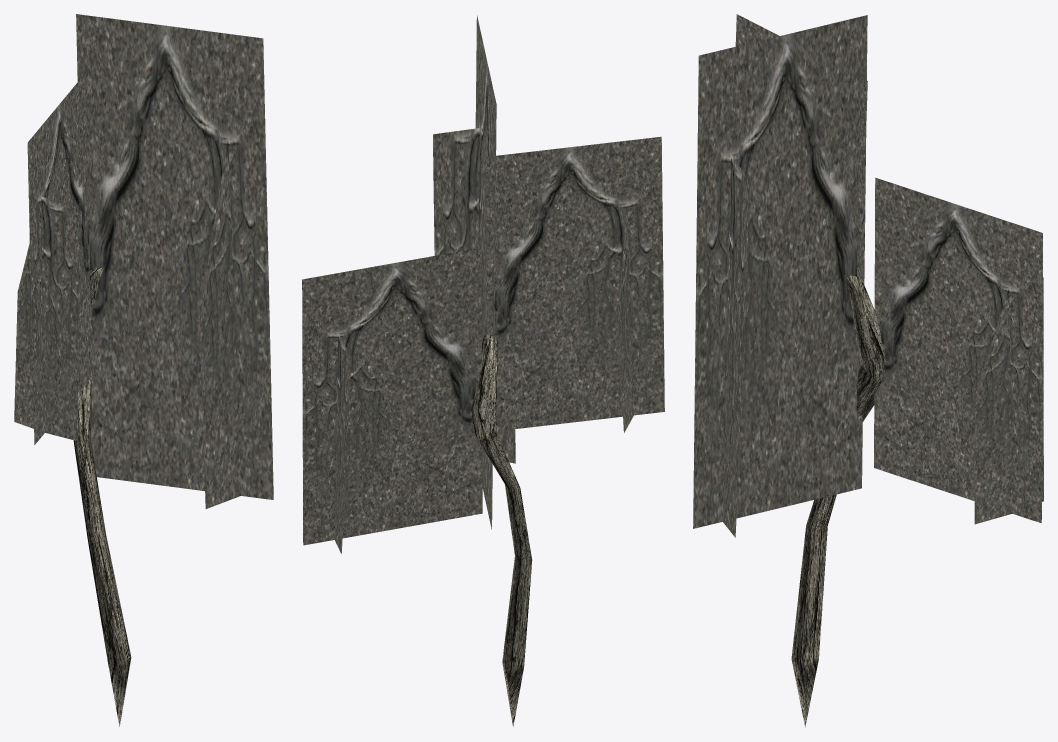
File: shrb_dath_glingi_a1_l0.fbx
The picture shows the model from 3 angles, left to right: view 1: azimuth 30°, elevation 25°; view 2: azimuth 150°, elevation 25°; view 3: azimuth 270°, elevation 25°; orthographic projection. The views are drawn at different scales.
Visible parts, largest first — view 1: mesh_node; view 2: mesh_node; view 3: mesh_node.
Boxes of the visible parts, left/top/right/bottom form: mesh_node: left=14, top=14, right=273, bottom=726; mesh_node: left=302, top=15, right=664, bottom=727; mesh_node: left=693, top=14, right=1043, bottom=727.
Size of the model in its own units: 2.31 by 6.45 by 2.86.
